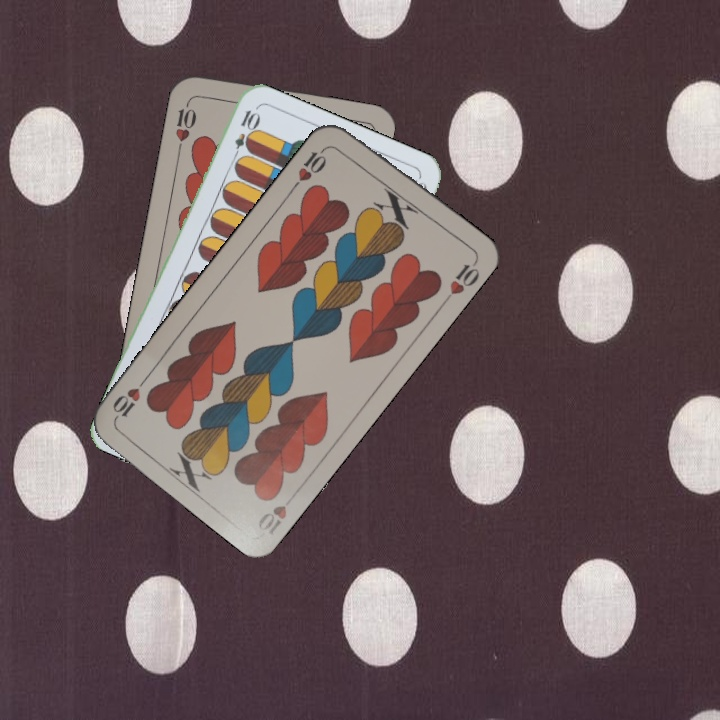E10: (228, 106, 260, 164)
H10: (288, 142, 332, 191), (171, 95, 199, 154), (253, 500, 290, 538)
